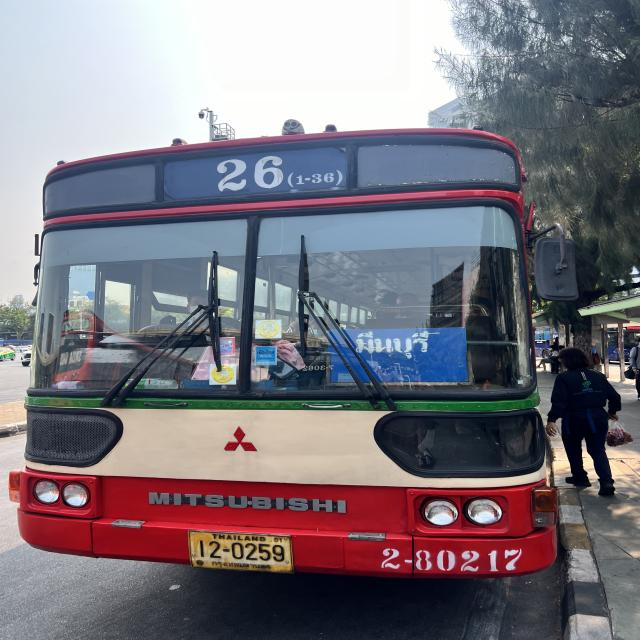BMTA-bus: (12, 123, 562, 582)
Bus-Line-Number: (160, 149, 349, 204)
Destination-Sign-Normal: (328, 326, 468, 381)
